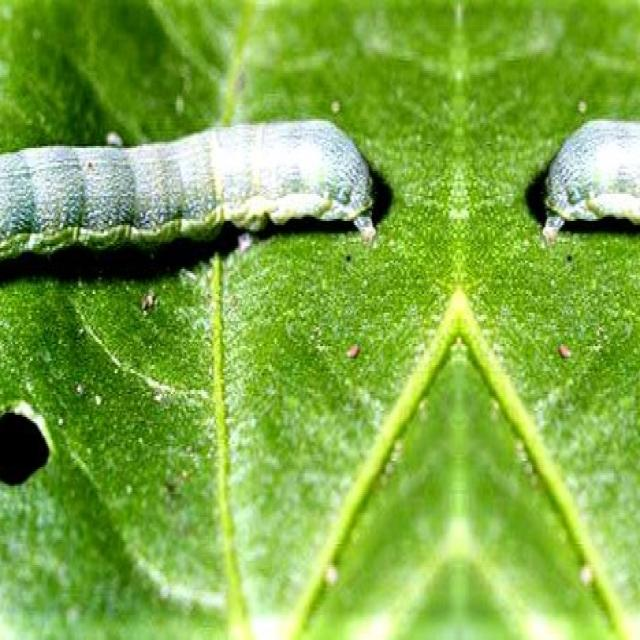Armyworm: (1, 86, 396, 338), (528, 95, 640, 242)
Armyworm_damage: (1, 382, 60, 535)
